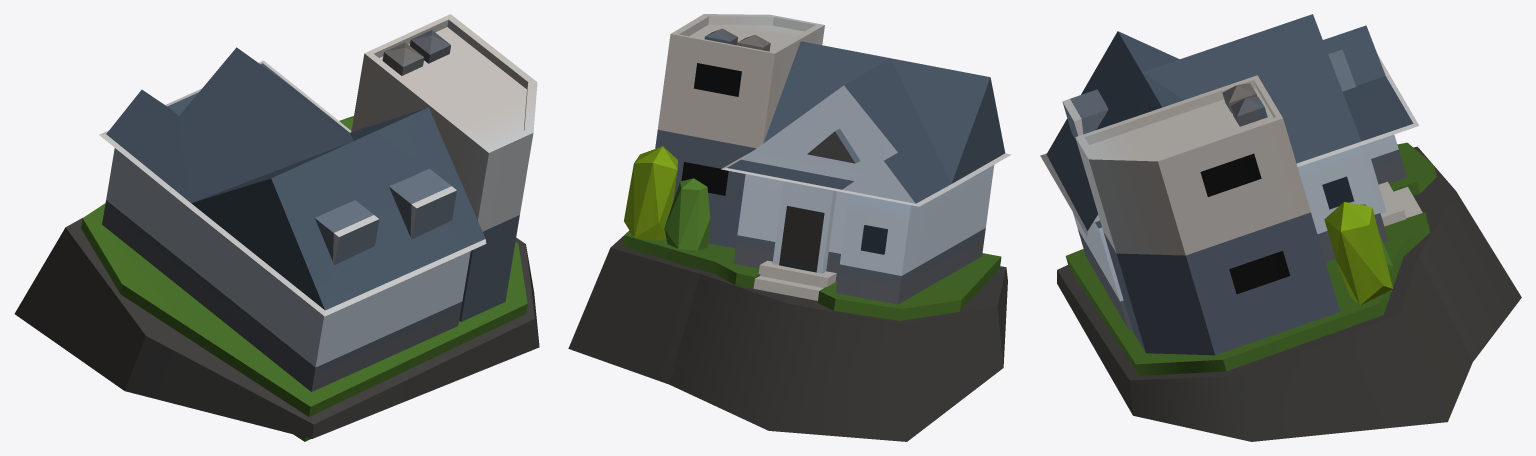
The model's file is city_lv05_B.fbx.
The picture shows the model from 3 angles, left to right: view 1: azimuth 30°, elevation 25°; view 2: azimuth 150°, elevation 25°; view 3: azimuth 270°, elevation 25°; orthographic projection. The views are drawn at different scales.
Visible parts, largest first — view 1: city_lv05_B; view 2: city_lv05_B; view 3: city_lv05_B.
Part boxes in pixels (<box>): city_lv05_B: <box>14,14,539,441</box>; city_lv05_B: <box>568,14,1010,441</box>; city_lv05_B: <box>1040,14,1521,441</box>.
Size of the model in its own units: 3780 by 2618 by 3743.
